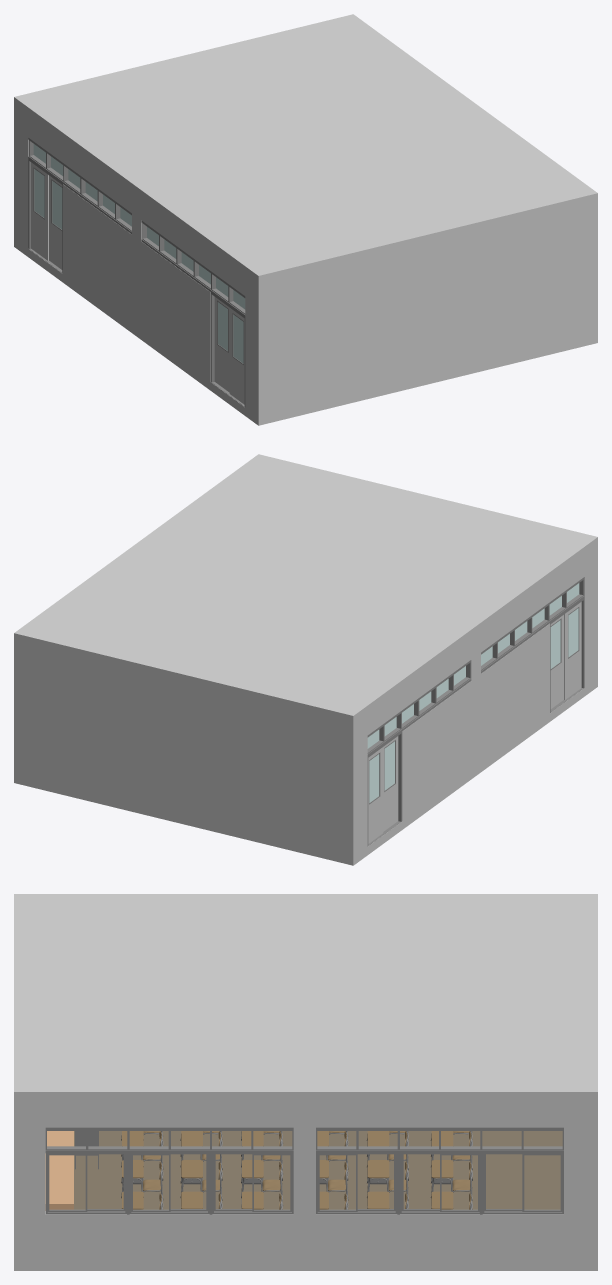
Rendered from school_class_room_light_ver.glb.
3 renders of one model, top to bottom at view 1: azimuth 30°, elevation 25°; view 2: azimuth 150°, elevation 25°; view 3: azimuth 270°, elevation 25°, orthographic. The views are drawn at different scales.
Bounding box in the file's own units: 8.31 × 3.51 × 10.37.
